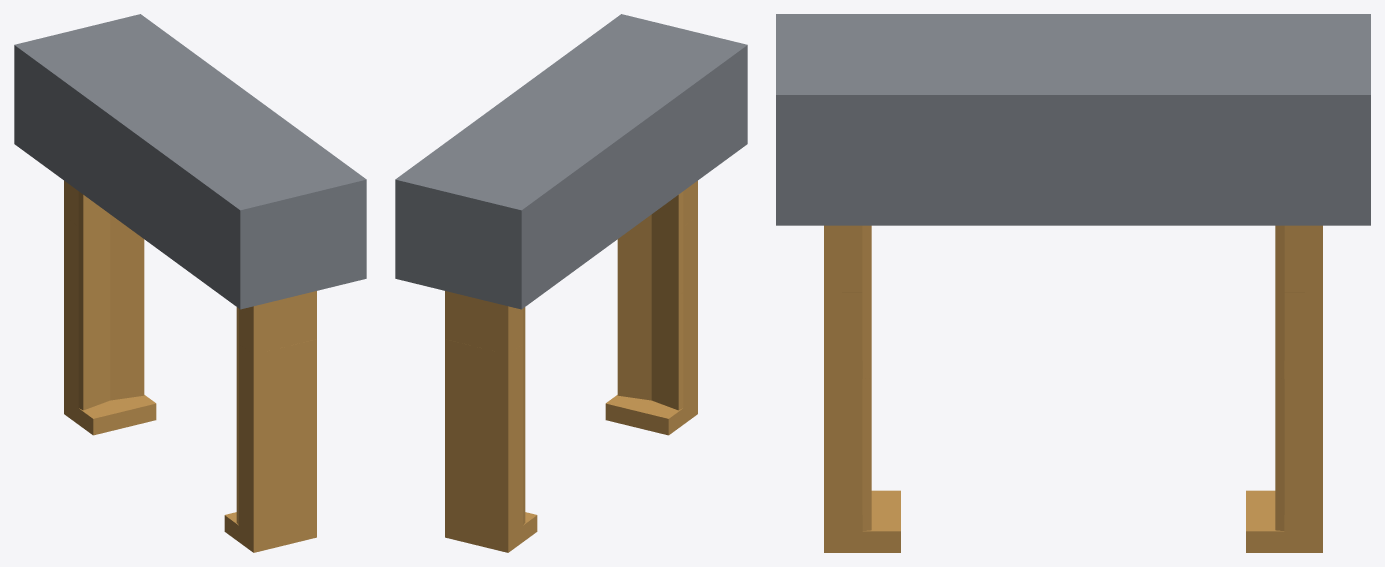
Rendered from gripper.glb.
The picture shows the model from 3 angles, left to right: view 1: azimuth 30°, elevation 25°; view 2: azimuth 150°, elevation 25°; view 3: azimuth 270°, elevation 25°; orthographic projection. The views are drawn at different scales.
Visible parts, largest first — view 1: palm, finger_right, finger_left; view 2: palm, finger_left, finger_right; view 3: palm, finger_left, finger_right.
Boxes of the visible parts, x1,y1,x2,y2 form: palm: (14,14,366,309); finger_right: (224,291,316,552); finger_left: (64,181,156,435); palm: (395,14,747,309); finger_left: (445,291,537,552); finger_right: (605,181,697,435); palm: (776,14,1370,225); finger_left: (1246,225,1322,552); finger_right: (824,225,900,552).
Size of the model in its own units: 0.04 by 0.11 by 0.124.
